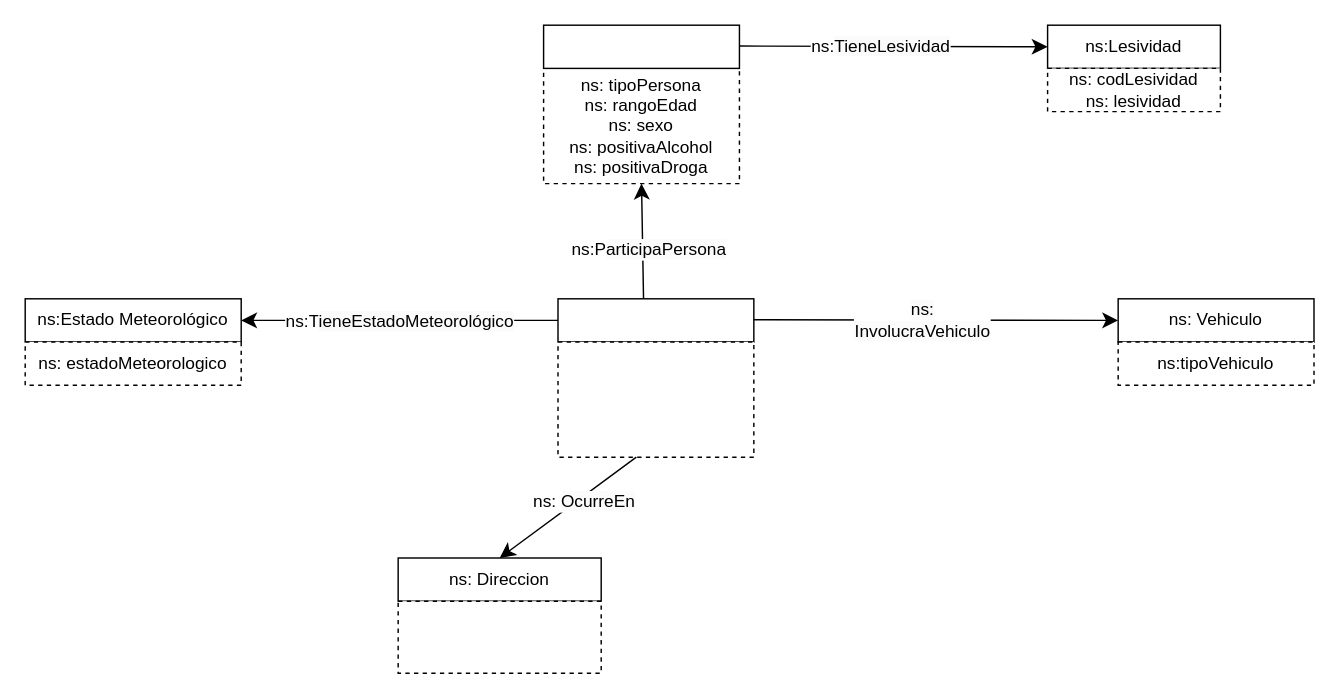
Some shapes in this 1339 by 698 pixel diagram are drawn without their labels. The centre of each missing label's shape, as x and y in pixels:
"ns: localizacion ns: coordenadas ns: distrito" belongs at pixel 499 636.
"ns: numExpediente ns: fecha ns: hora ns: tipoAccidente" belongs at pixel 655 399.
"ns:Accidente" belongs at pixel 655 319.
"ns:Persona" belongs at pixel 640 46.
